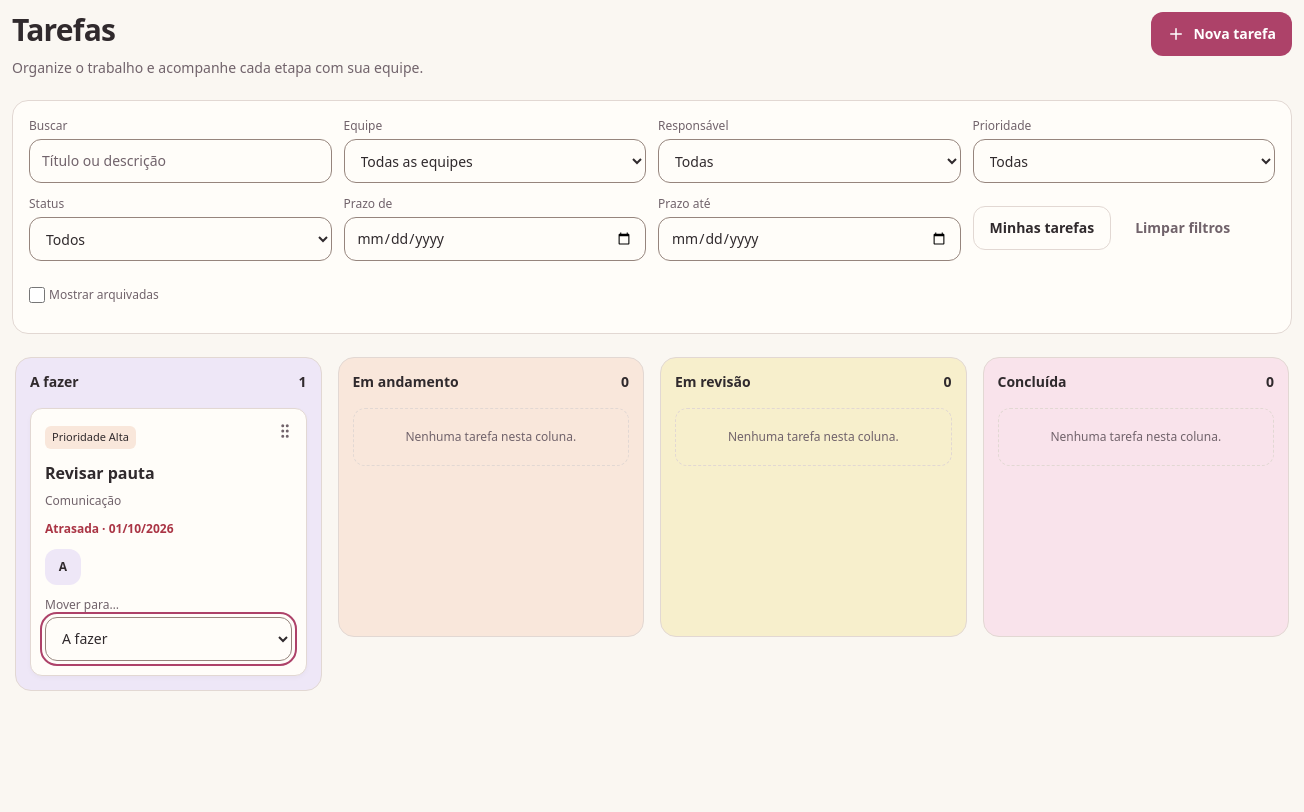
Scenario: devolve foco ao controle depois de mover entre colunas
Step 1. Select "Em andamento" in the dropdown named "Mover Revisar pauta para" → (168, 638), box [45,616,292,660]
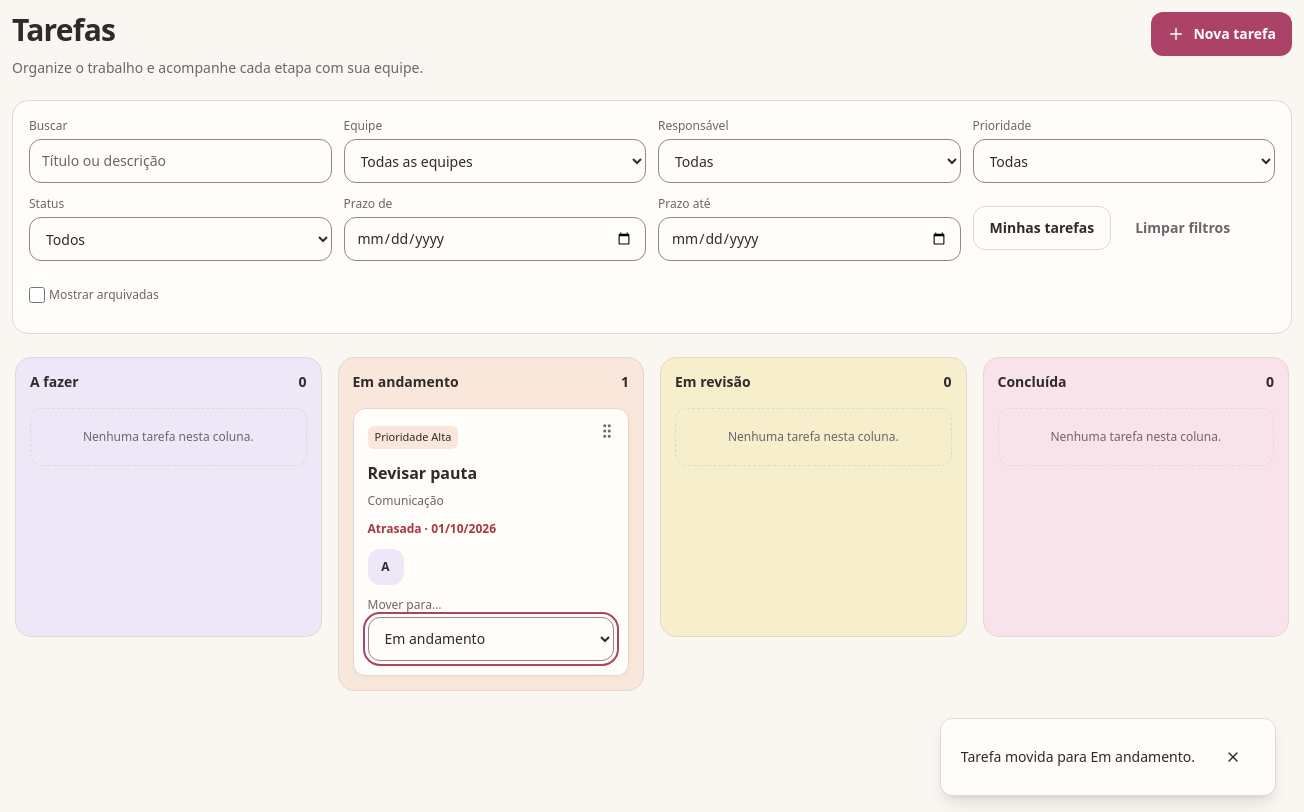
Check: the dropdown named "Mover Revisar pauta para" shows "Em andamento", box [368,616,614,660]
